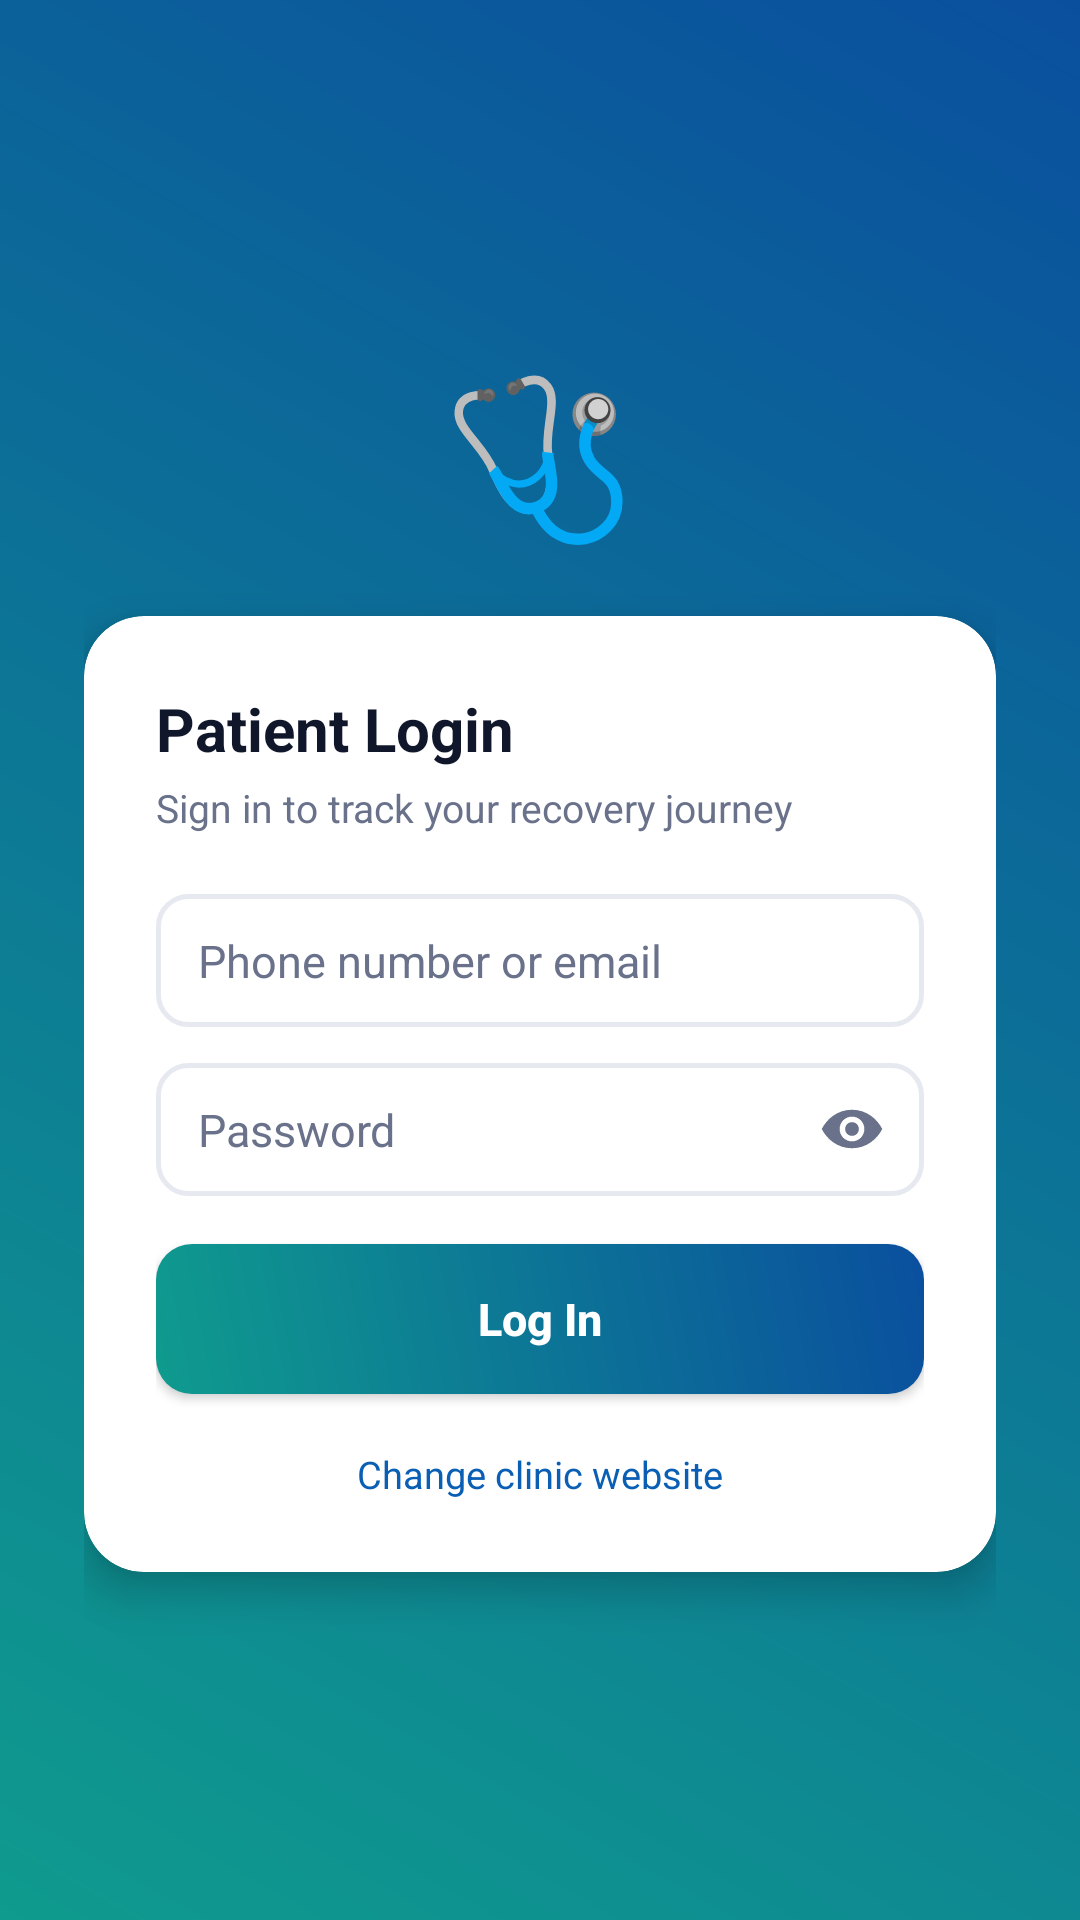

Screen size 1080px×1920px. Icon name, then its box in pixels as (x1, y1, x2, y2):
eye: (822, 1109, 882, 1149)
